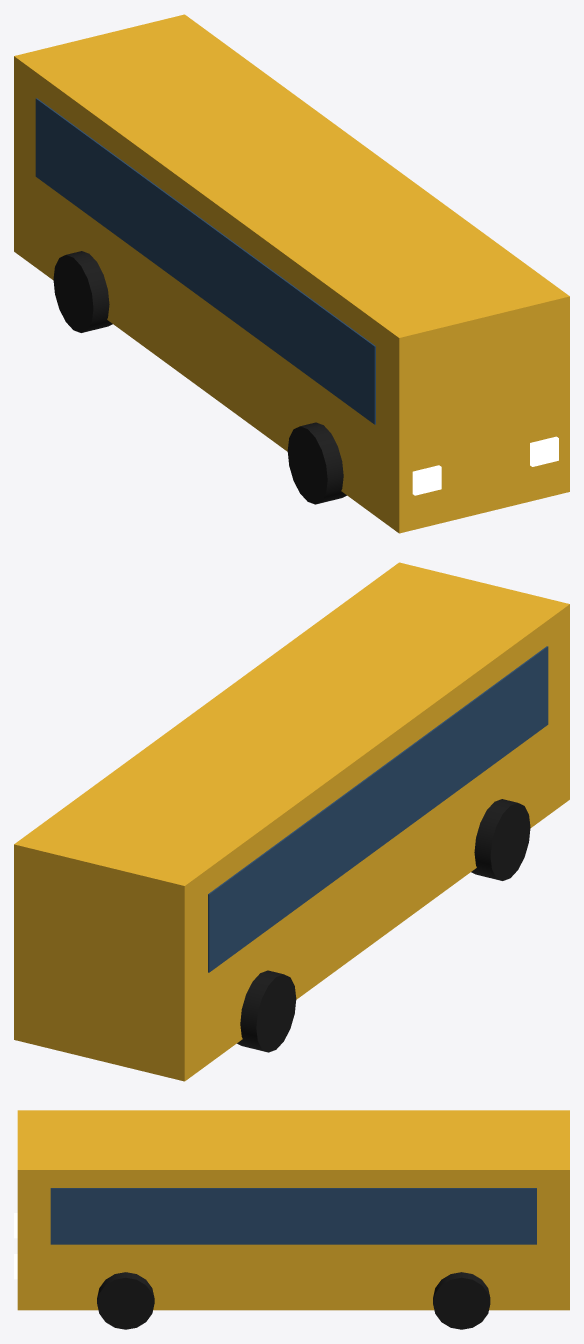
File: city_bus.glb
3 views of the same model, one above another, from view 1: azimuth 30°, elevation 25°; view 2: azimuth 150°, elevation 25°; view 3: azimuth 270°, elevation 25° (orthographic). The views are drawn at different scales.
Bounding box in the file's own units: 3.8 × 3.85 × 12.58.
